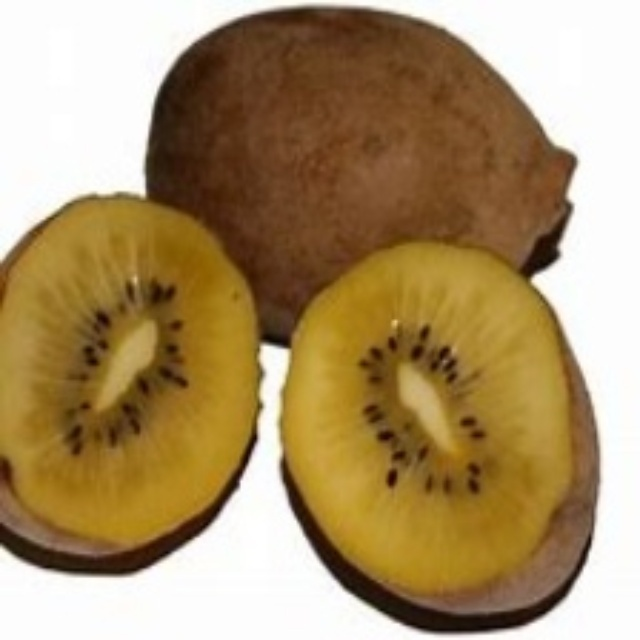kiwi: (143, 4, 580, 334), (285, 237, 600, 622), (5, 196, 257, 566)
